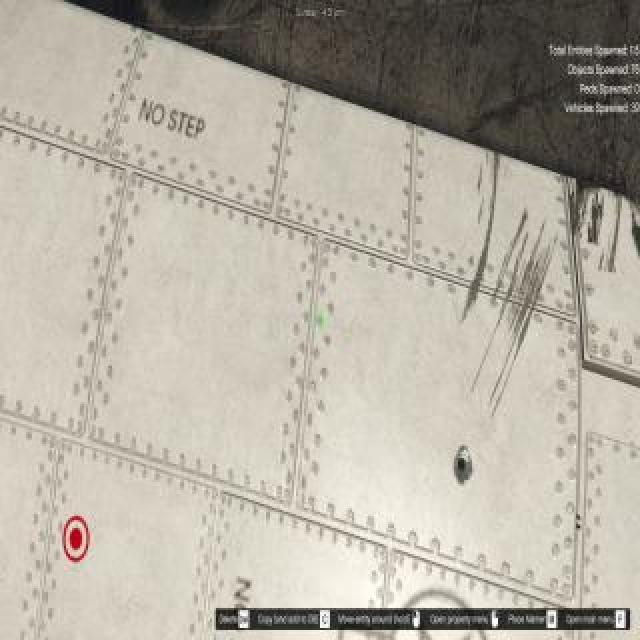crack: (449, 448, 477, 488)
dent: (465, 153, 501, 319), (497, 207, 527, 294), (518, 266, 550, 345), (501, 231, 527, 307), (571, 175, 602, 238), (523, 223, 543, 297), (520, 256, 538, 323)
